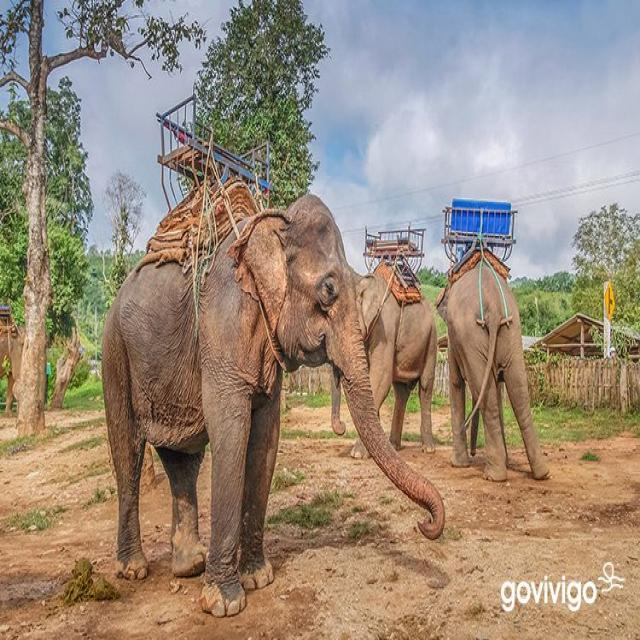Elephant: (87, 160, 402, 626), (437, 218, 566, 512), (338, 182, 446, 505)
